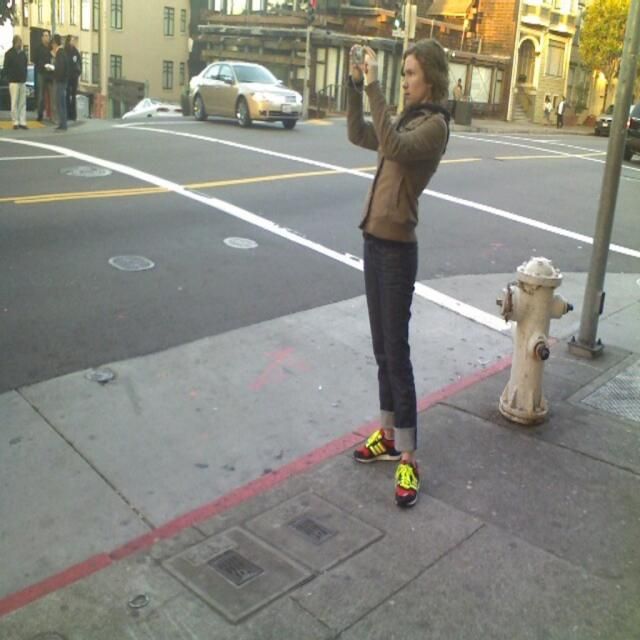car: (181, 47, 303, 116)
